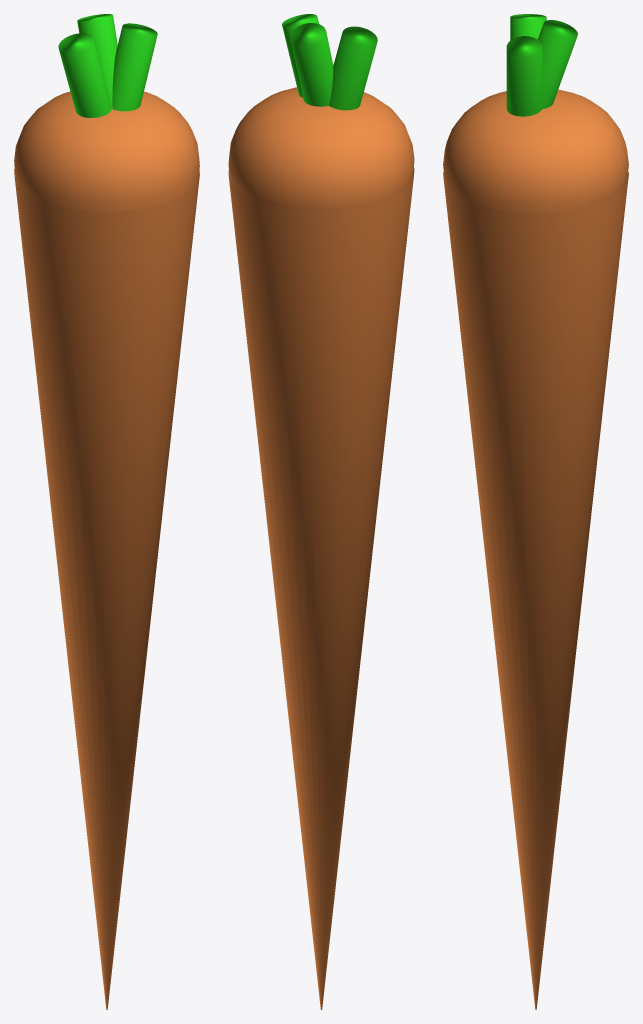
File: Carrot.fbx
The picture shows the model from 3 angles, left to right: view 1: azimuth 30°, elevation 25°; view 2: azimuth 150°, elevation 25°; view 3: azimuth 270°, elevation 25°; orthographic projection.
Parts seen in each view (by area): view 1: Cone, Sphere, Cylinder.001, Cylinder.002, Cylinder; view 2: Cone, Sphere, Cylinder.001, Cylinder, Cylinder.002; view 3: Cone, Sphere, Cylinder.002, Cylinder, Cylinder.001.
Part boxes in pixels (x1,y1,x2,y2): Cone: (14,91,199,1009); Sphere: (14,91,171,205); Cylinder.001: (58,33,111,117); Cylinder.002: (112,23,157,111); Cylinder: (77,14,117,109); Cone: (228,87,414,1009); Sphere: (228,93,413,210); Cylinder.001: (329,26,377,110); Cylinder: (290,23,333,106); Cylinder.002: (282,14,318,97); Cone: (443,92,628,1009); Sphere: (484,89,628,211); Cylinder.002: (506,36,542,116); Cylinder: (538,20,577,109); Cylinder.001: (510,14,546,40).
Bounding box in the file's own units: 40 × 234 × 40.
